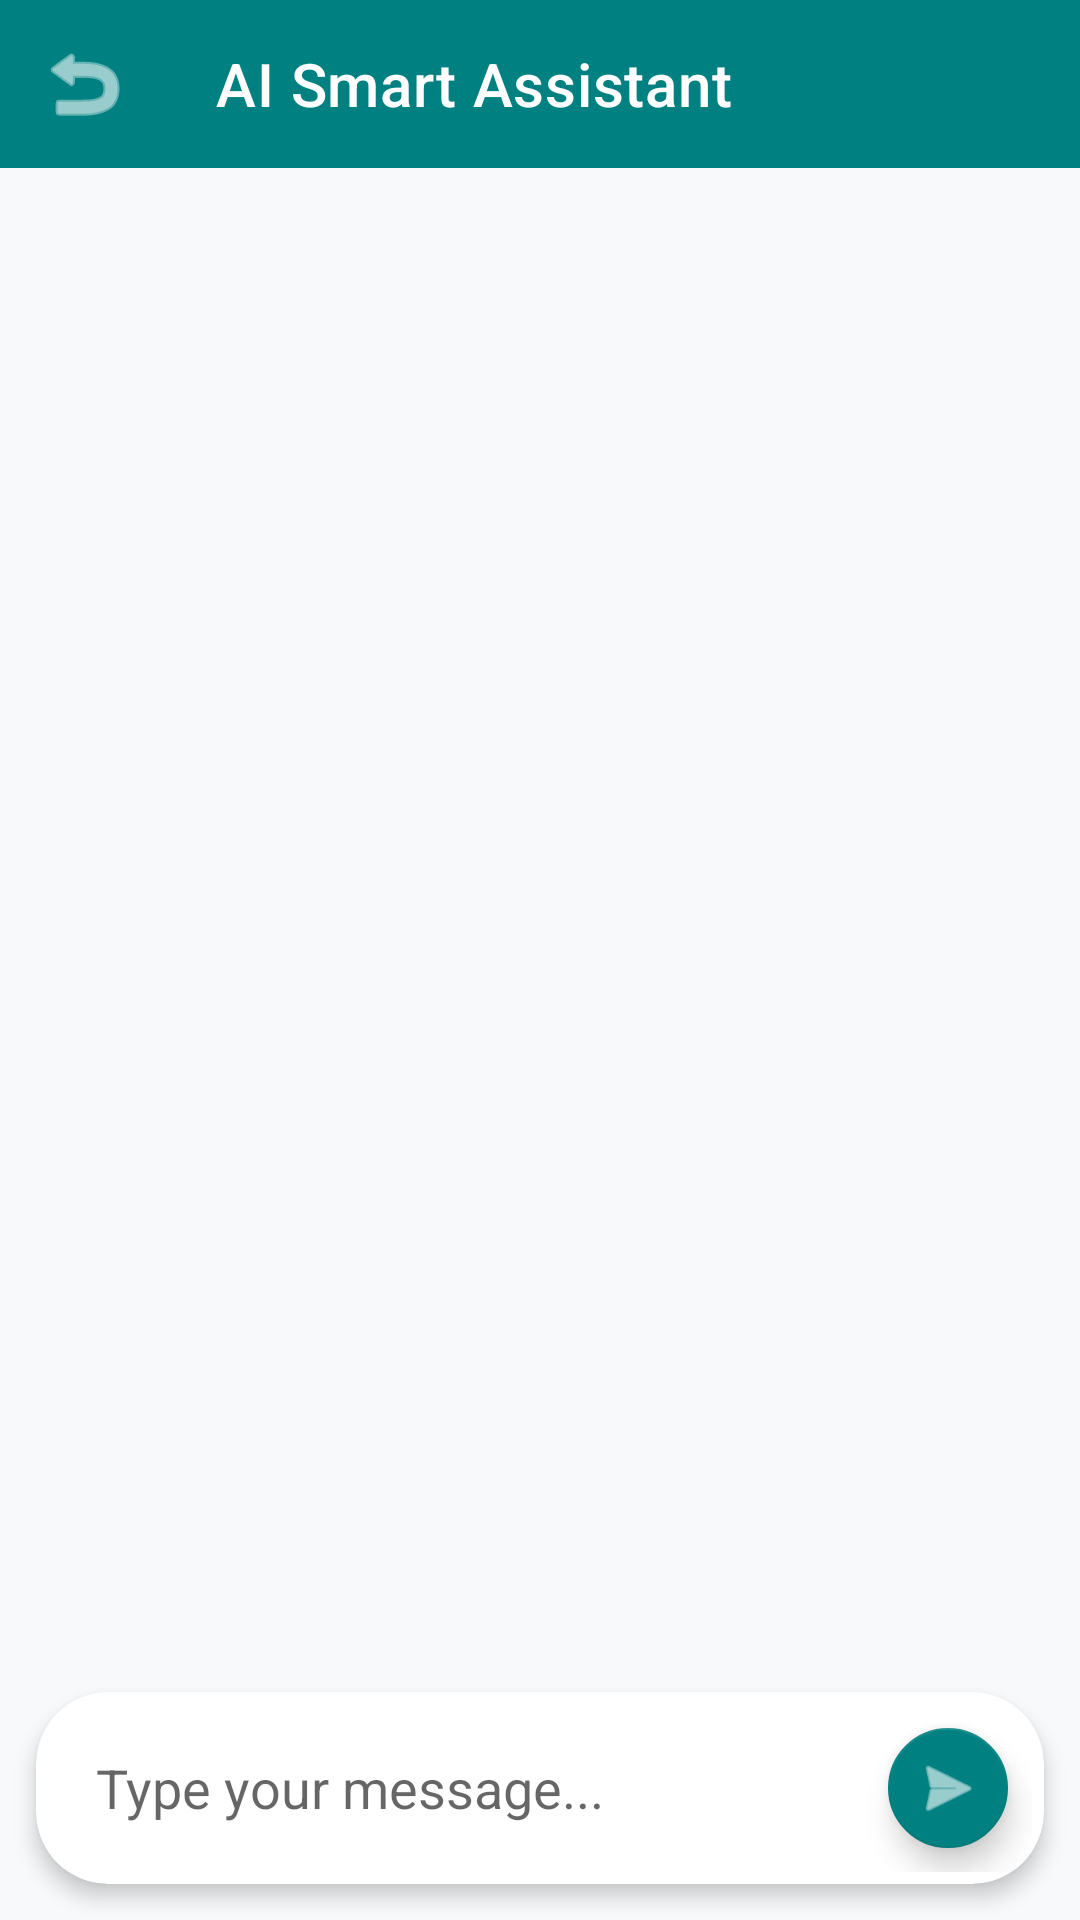

Icon click points for this 1080px x 1920px phone screenshot, format point (x, y):
Send: point (949, 1794)
